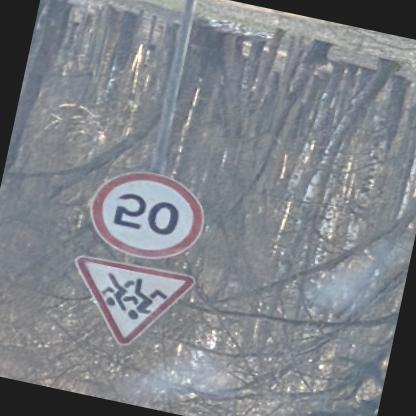speedlimit: (81, 161, 209, 267)
